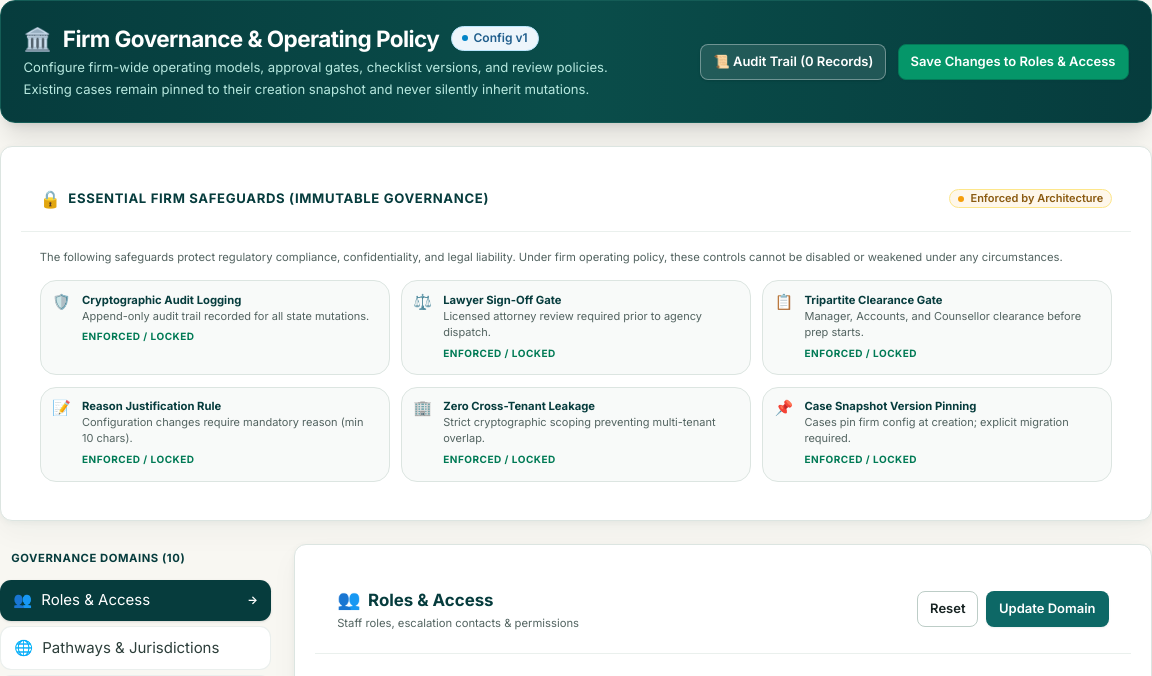
Test case: Phase 9 — Firm Configuration and Approval Gates › FirmConfigurationHub Component › opens the justification modal and validates >= 10 character rationale
Note: Click update domain
Click the button "Update Domain" at [1047, 609], box 986,591 -> 1108,627
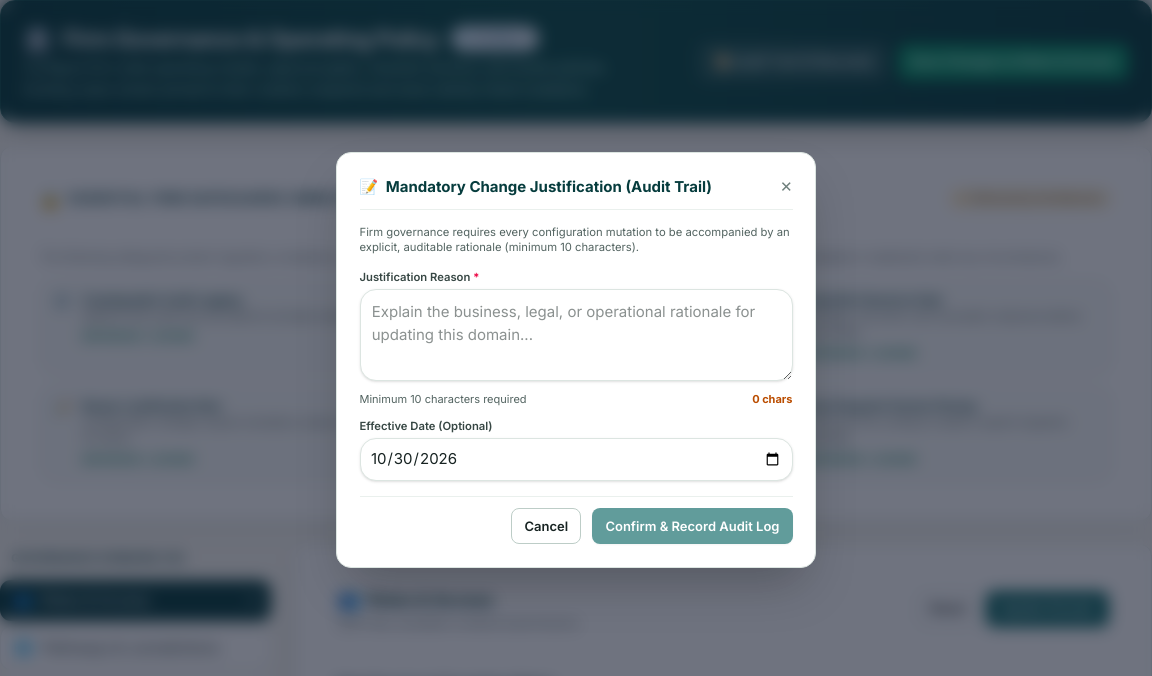
Result: the heading "Mandatory Change Justification (Audit Trail)" is shown at 386,177 -> 712,196
Result: the text "Minimum 10 characters required" is shown at 360,391 -> 526,408
Note: Short rationale should keep button disabled or show error
Replace the text in the text box with placeholder "Explain the business, legal, or operational rationale" with "short" at [576, 335], box 360,289 -> 792,381
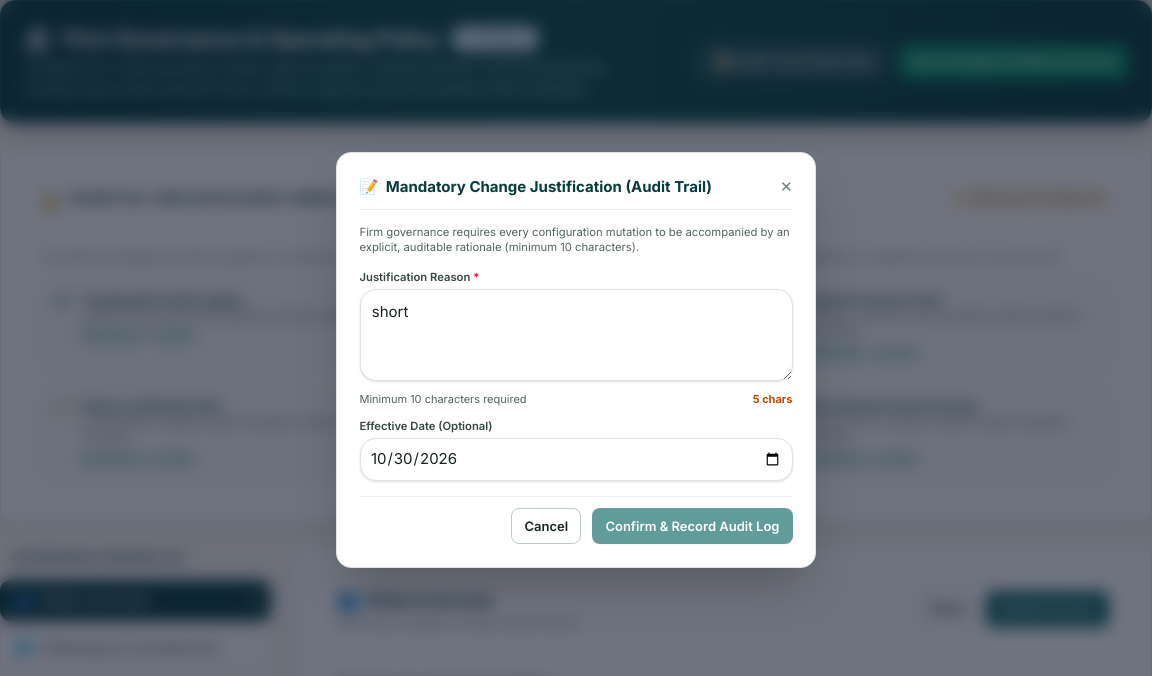
Result: the button "Confirm & Record Audit Log" is disabled at 592,508 -> 792,544
Note: Valid rationale enables submit button
Replace the text in the text box with placeholder "Explain the business, legal, or operational rationale" with "Updating firm policy per Q2 compliance update guidelines" at [576, 335], box 360,289 -> 792,381
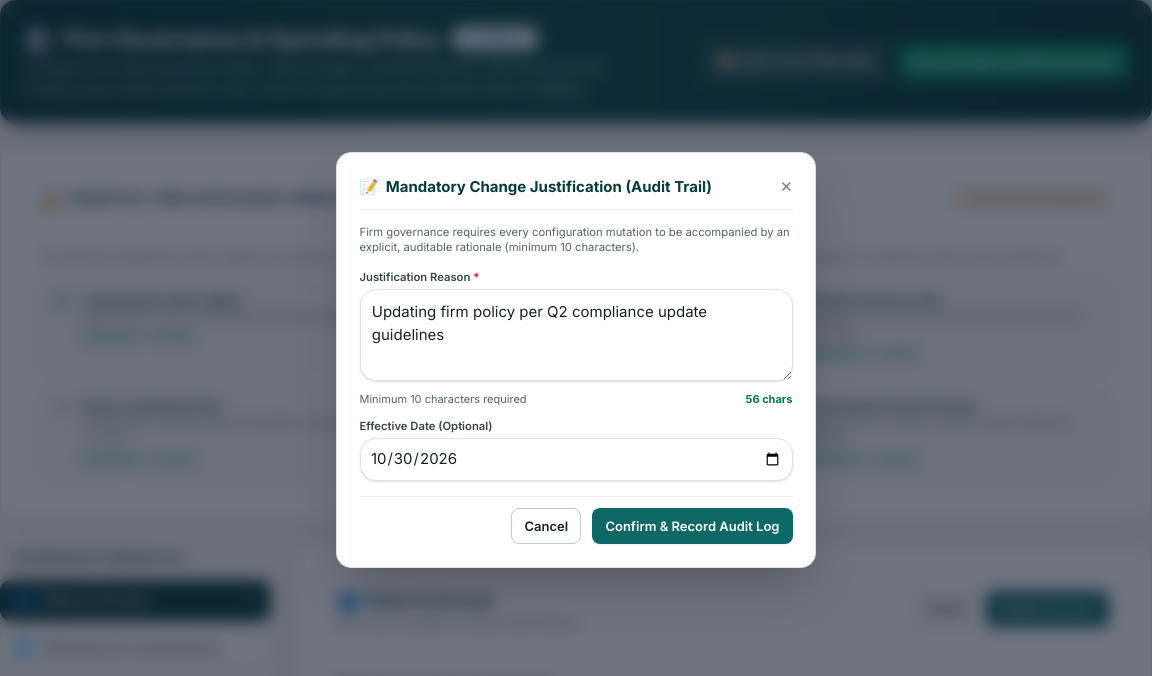
Result: the button "Confirm & Record Audit Log" is enabled at 592,508 -> 792,544
